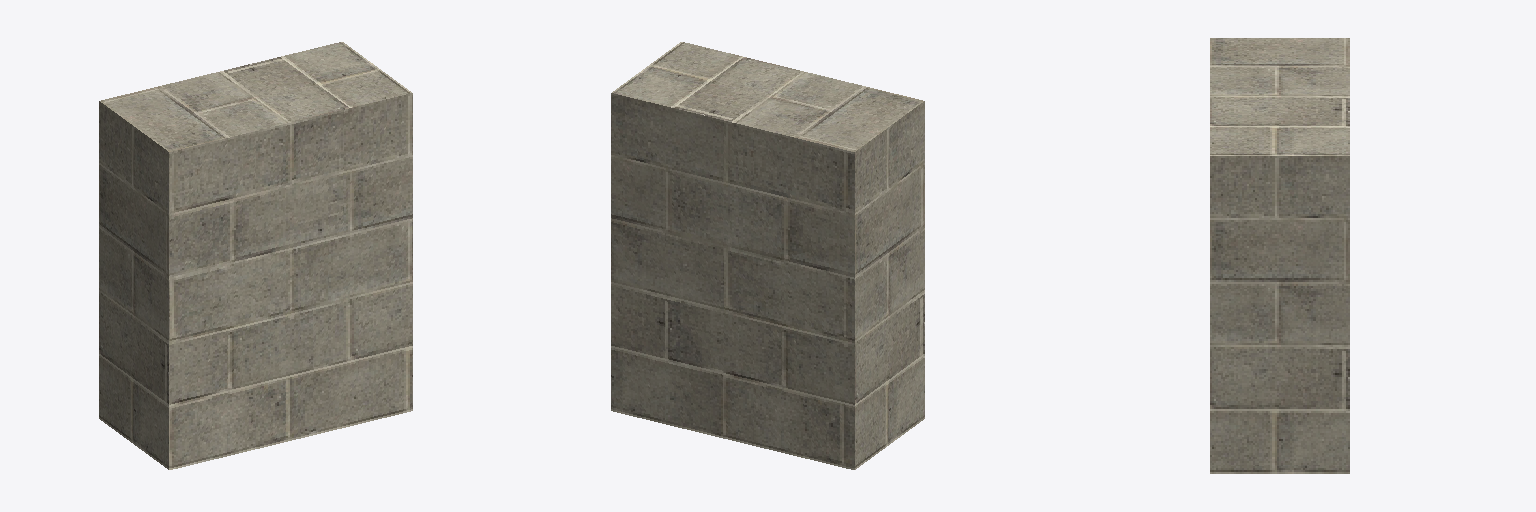
The picture shows the model from 3 angles: view 1: azimuth 30°, elevation 25°; view 2: azimuth 150°, elevation 25°; view 3: azimuth 270°, elevation 25°; orthographic projection.
Visible parts, largest first — view 1: Box01; view 2: Box01; view 3: Box01.
Part boxes in pixels (x1,y1,x2,y2): Box01: (99, 42, 412, 469); Box01: (611, 42, 924, 469); Box01: (1210, 38, 1349, 473).
Size of the model in its own units: 0.4 by 0.5 by 0.2.
1 materials, 1 textured.